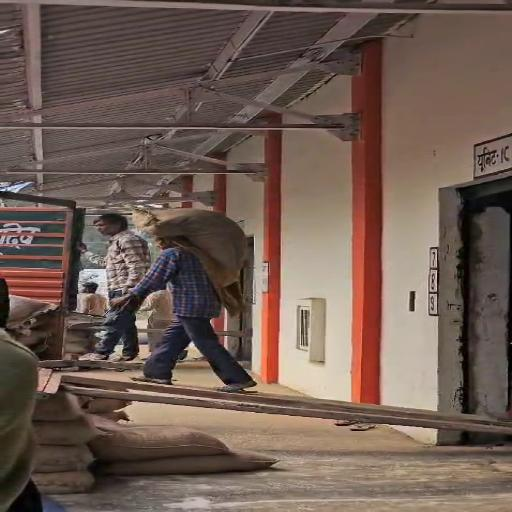bag: (125, 196, 258, 280)
